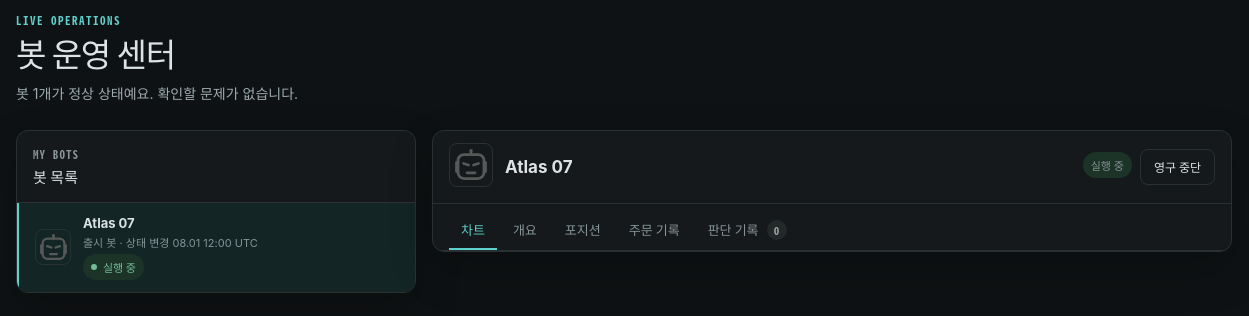
Test case: Bot operations › permanently stops a running owned bot through the live command API
This screenshot has width=1249, height=316.
Click the button with aria-label "Atlas 07 영구 중단": click(1178, 167) [1140,149,1215,185]
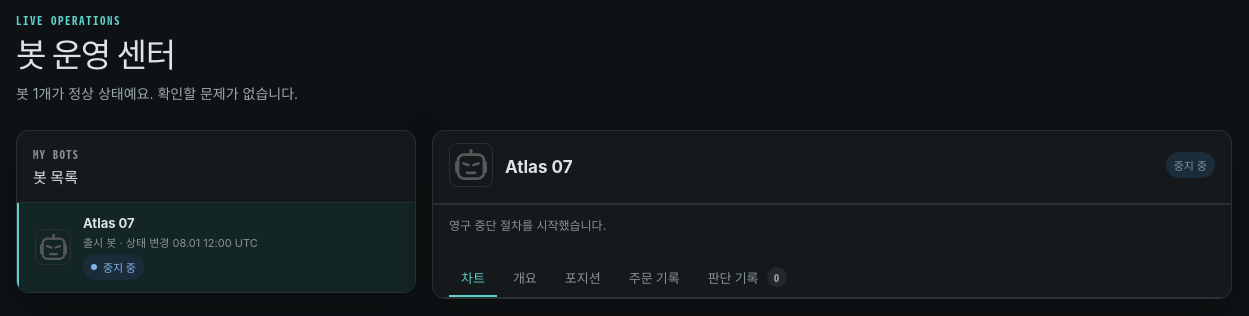
Expected: the text "중지 중" below "봇 목록" is shown, [103,261,136,275]
